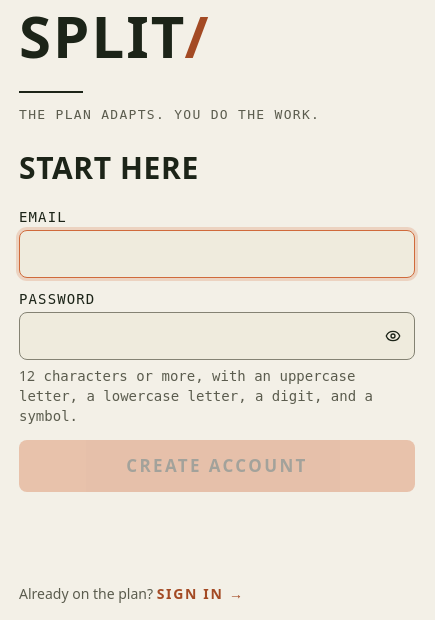
Scenario: RegisterPage › submit button gating › becomes enabled only when email + policy-compliant password are present
In the field labelled "Email": (217, 254) x1=19 y1=230 x2=415 y2=278, type "runner@example.com"
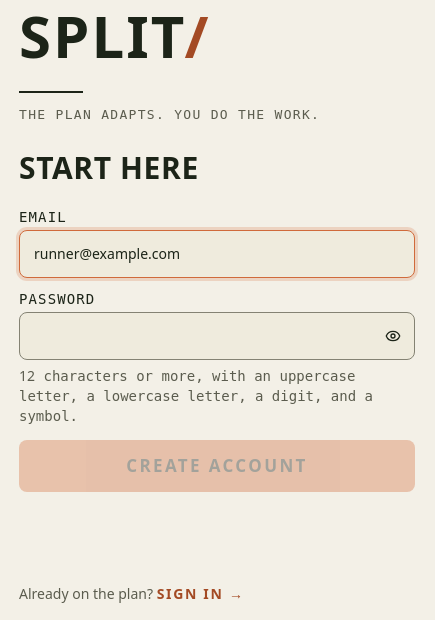
In the password field labelled "Password": (217, 336) x1=19 y1=312 x2=415 y2=360, type "StrongPassw0rd!"
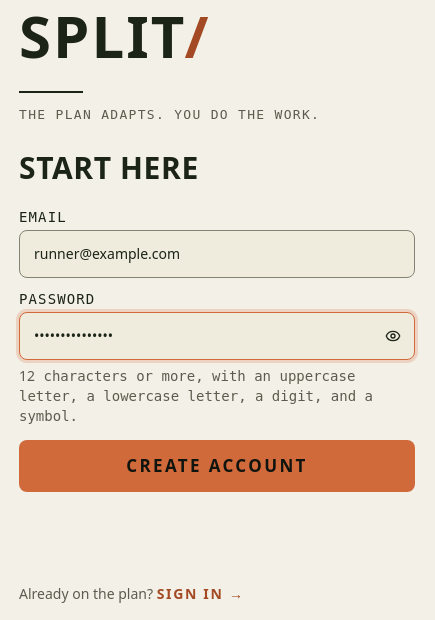
Now the button "Create account" is enabled, box x1=19 y1=440 x2=415 y2=492
